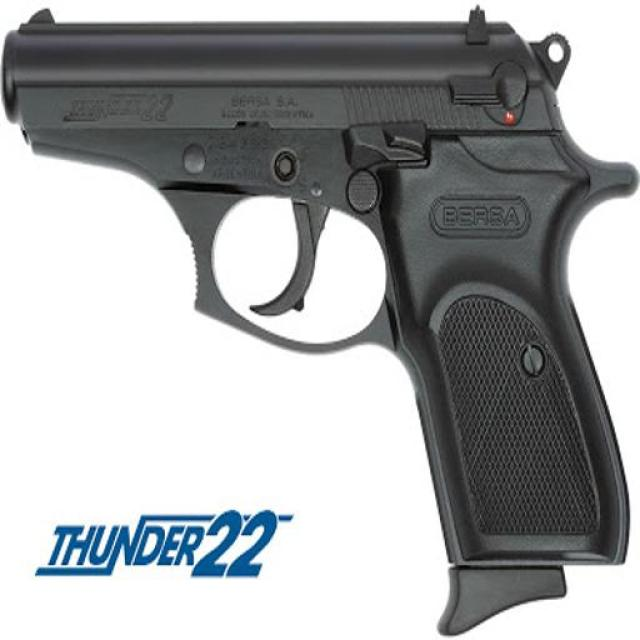pistol: (2, 7, 630, 626)
